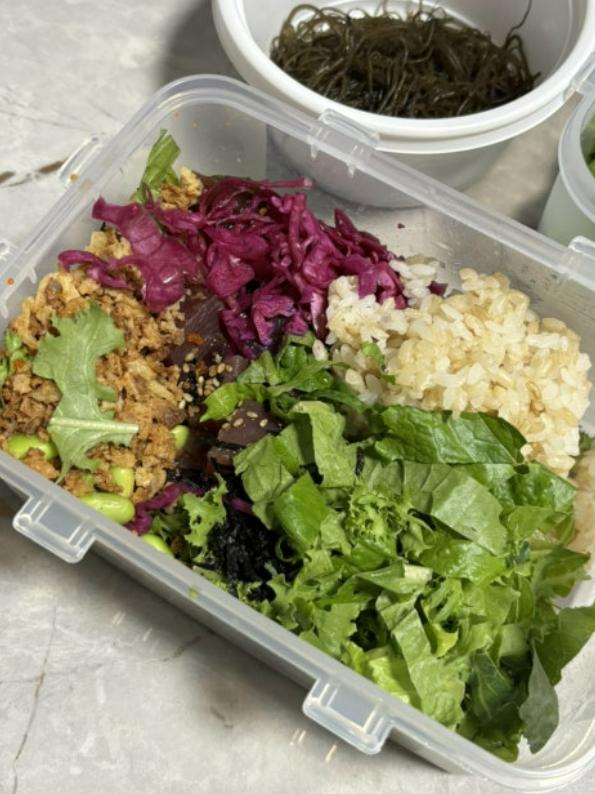Lunch Box: (0, 75, 594, 791), (212, 0, 594, 209)
cup: (538, 55, 594, 244)
